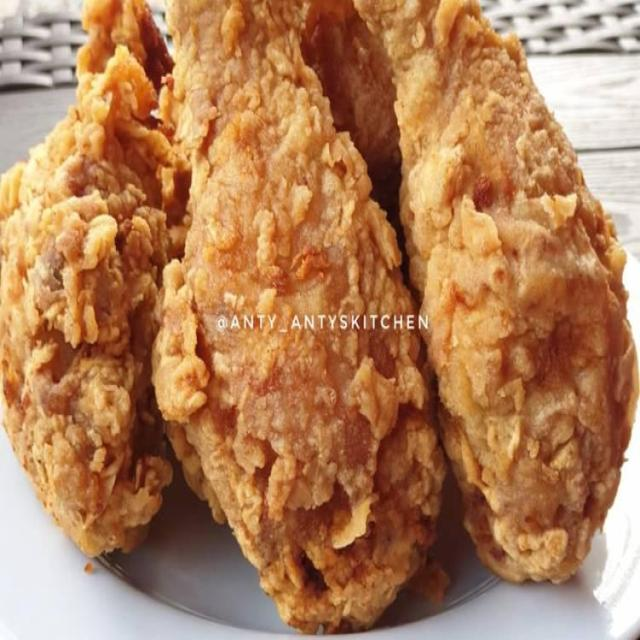Frango: (155, 0, 439, 640), (347, 1, 640, 587), (0, 0, 181, 563)
